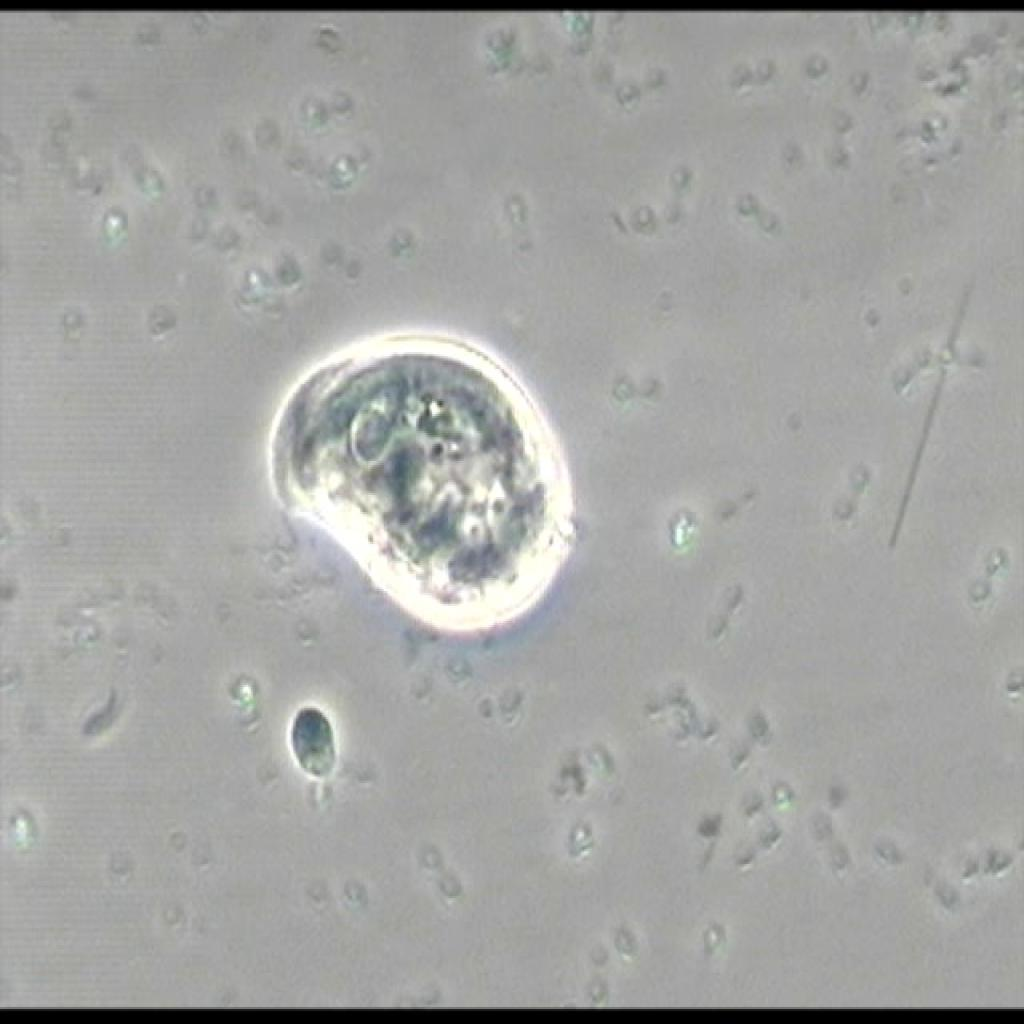Chilodonella: (263, 298, 583, 641)
